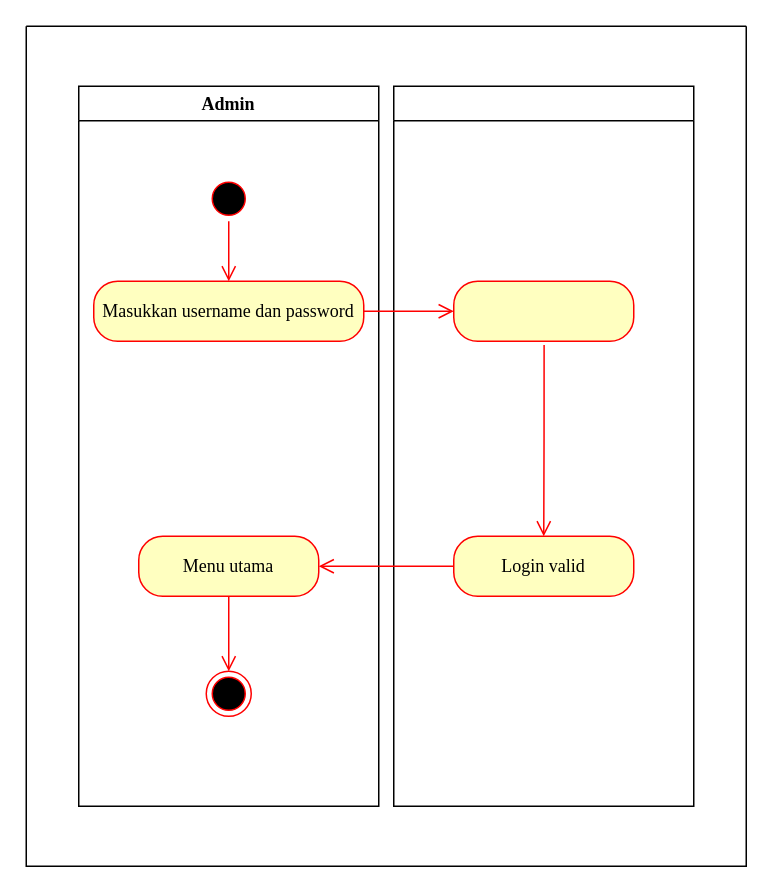
Some shapes in this 773 by 893 pixel diagram are drawn without their labels. The box of each missing label's shape, as (x1, y1, x2, y2) in pixels:
Request: (452, 280, 634, 341)
Sistem: (392, 85, 694, 806)
